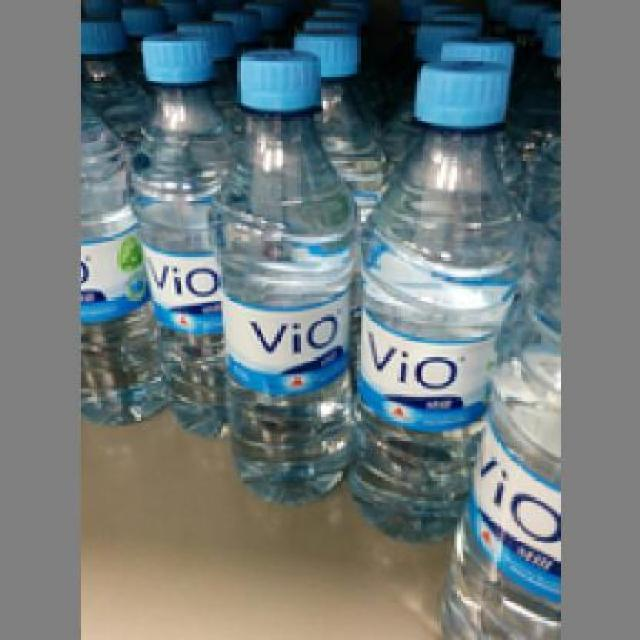Water: (343, 57, 517, 534), (212, 43, 352, 506), (425, 212, 558, 638), (125, 22, 228, 432)
